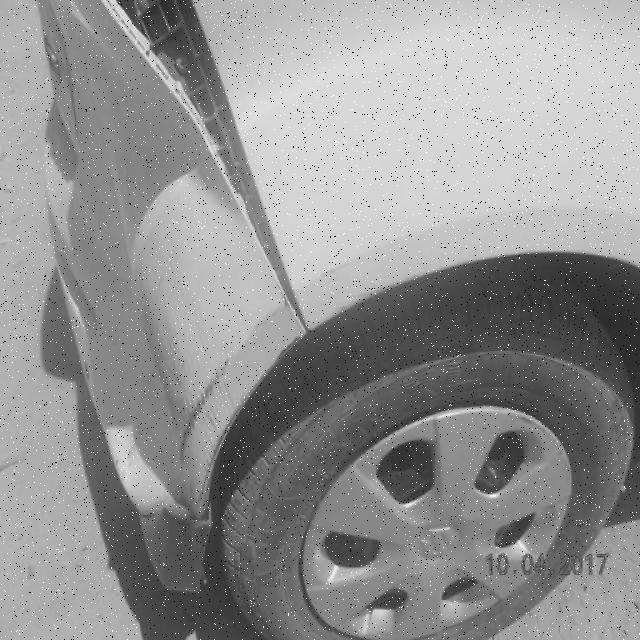car damage: (104, 2, 306, 327), (95, 281, 194, 511), (183, 350, 234, 439)
